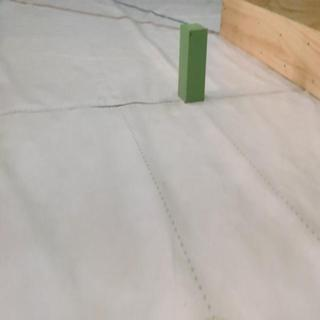greenbox: (176, 21, 209, 104)
